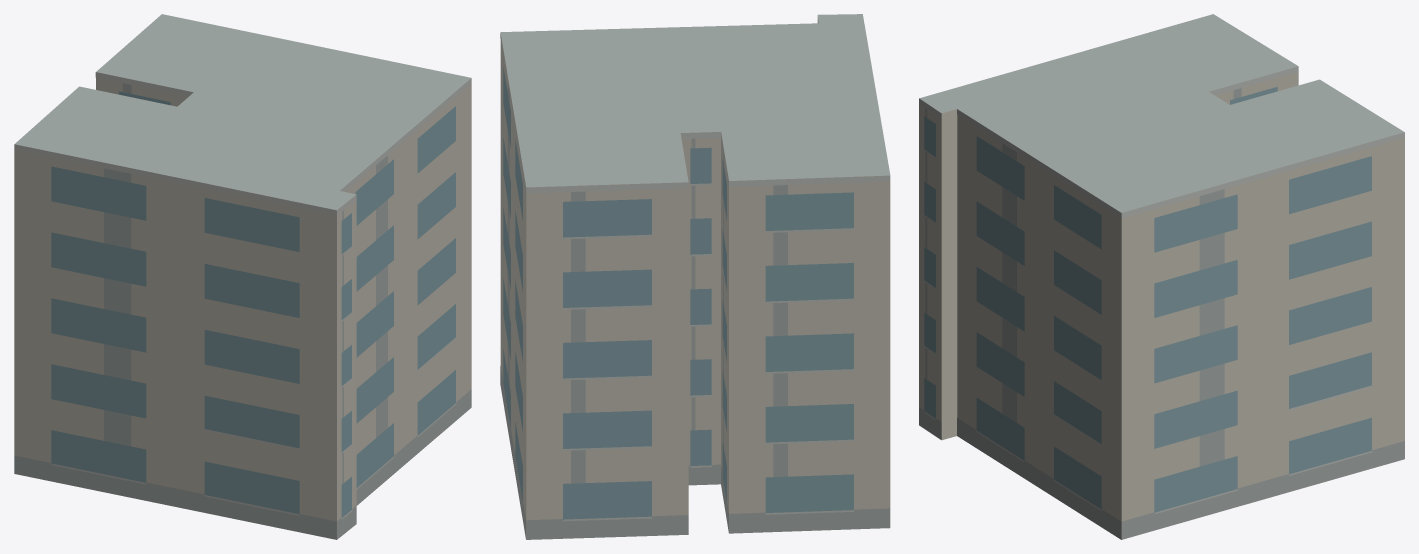
Rendered from survey-upis-32891655.glb.
3 views of the same model, side by side, from view 1: azimuth 30°, elevation 25°; view 2: azimuth 150°, elevation 25°; view 3: azimuth 270°, elevation 25° (orthographic). The views are drawn at different scales.
Visible parts, largest first — view 1: survey-upis-32891655.tmp; view 2: survey-upis-32891655.tmp; view 3: survey-upis-32891655.tmp.
Boxes of the visible parts, box(x1,y1,x2,y2) form: survey-upis-32891655.tmp: box(14, 14, 471, 539); survey-upis-32891655.tmp: box(500, 14, 890, 539); survey-upis-32891655.tmp: box(919, 14, 1404, 539).
Size of the model in its own units: 18.8 by 14.4 by 19.4.
